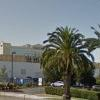Palm tree: (36, 15, 95, 92)
